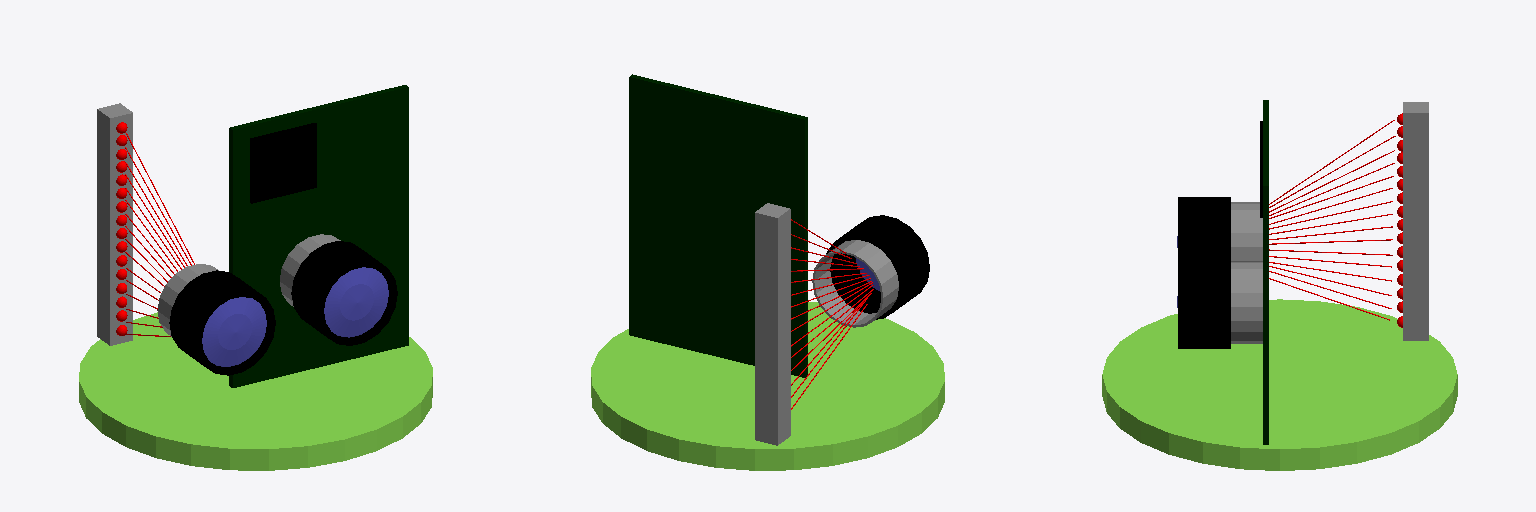
The picture shows the model from 3 angles: view 1: azimuth 30°, elevation 25°; view 2: azimuth 150°, elevation 25°; view 3: azimuth 270°, elevation 25°; orthographic projection.
Parts seen in each view (by area): view 1: dituo, dianluban, Box001, Cylinder023, Cylinder003, Box002, Sphere001, Sphere002, Cylinder005, Cylinder022; view 2: dianluban, dituo, Box001, Cylinder003, Cylinder005; view 3: dituo, Box001, Cylinder023, Cylinder003, Cylinder022, dianluban, Cylinder005.
Boxes of the visible parts, <box> form: dituo: <box>79,312,432,470</box>; dianluban: <box>229,85,408,387</box>; Box001: <box>97,103,132,345</box>; Cylinder023: <box>291,241,397,345</box>; Cylinder003: <box>169,270,275,375</box>; Box002: <box>250,123,316,203</box>; Sphere001: <box>202,297,266,366</box>; Sphere002: <box>324,267,388,337</box>; Cylinder005: <box>157,264,218,336</box>; Cylinder022: <box>280,234,340,306</box>; dianluban: <box>629,74,807,377</box>; dituo: <box>591,302,944,470</box>; Box001: <box>755,203,790,445</box>; Cylinder003: <box>826,215,929,319</box>; Cylinder005: <box>812,240,898,327</box>; dituo: <box>1102,299,1457,470</box>; Box001: <box>1403,102,1428,340</box>; Cylinder023: <box>1178,257,1230,348</box>; Cylinder003: <box>1178,197,1230,256</box>; Cylinder022: <box>1231,262,1262,343</box>; dianluban: <box>1263,100,1268,444</box>; Cylinder005: <box>1231,202,1262,261</box>.
Bounding box in the file's own units: 149 × 129 × 149.